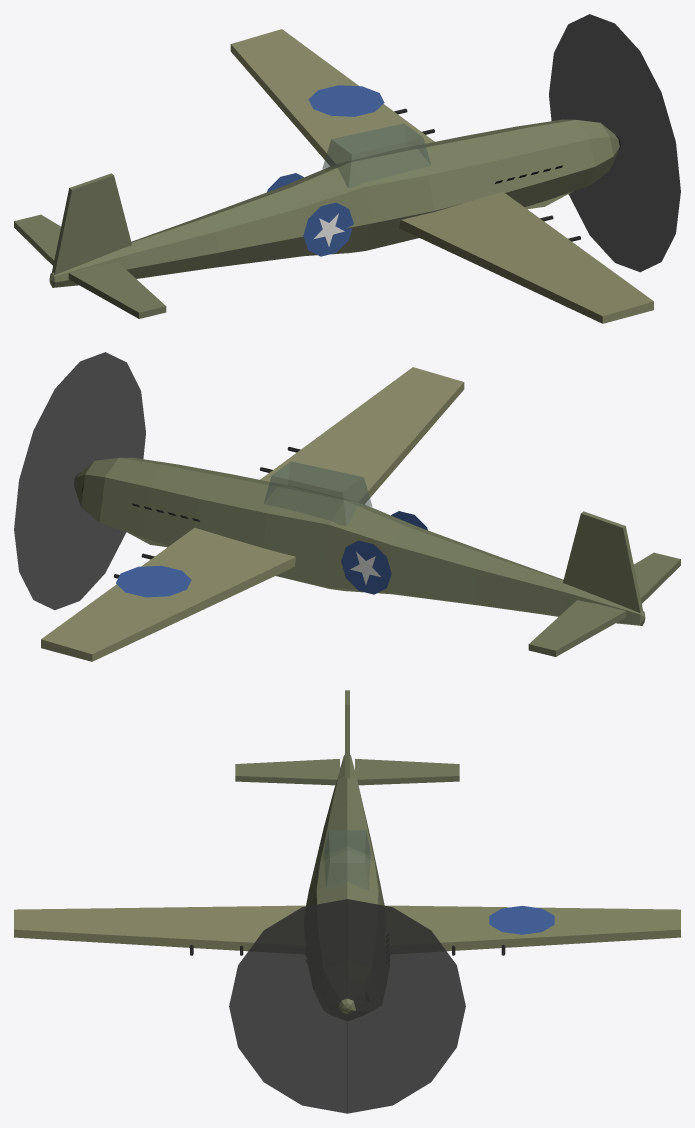
The picture shows the model from 3 angles, top to bottom: view 1: azimuth 30°, elevation 25°; view 2: azimuth 150°, elevation 25°; view 3: azimuth 270°, elevation 25°; orthographic projection. The views are drawn at different scales.
Parts seen in each view (by area): view 1: P51_Mesh, P51_Prop; view 2: P51_Mesh, P51_Prop; view 3: P51_Prop, P51_Mesh.
Part boxes in pixels (x1,y1,x2,y2): P51_Mesh: (14, 29, 653, 323); P51_Prop: (549, 14, 680, 272); P51_Mesh: (41, 367, 680, 661); P51_Prop: (14, 352, 145, 610); P51_Prop: (229, 899, 465, 1113); P51_Mesh: (14, 690, 680, 1014).
Size of the model in its own units: 9.47 by 3.8 by 10.7.
